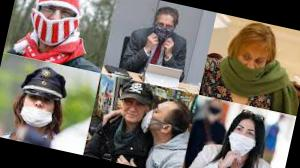mask_weared_incorrect: (33, 1, 78, 43), (231, 50, 268, 88), (21, 94, 54, 125)
with_mask: (140, 101, 166, 137), (231, 123, 257, 152), (155, 18, 175, 37)
without_mask: (120, 99, 145, 126)
